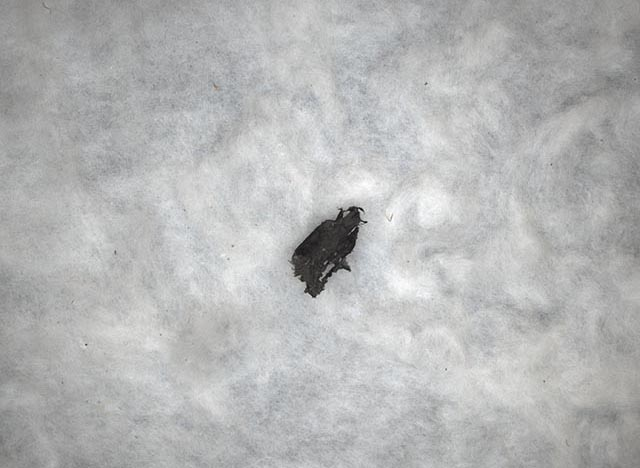plastic film: (288, 204, 367, 299)
